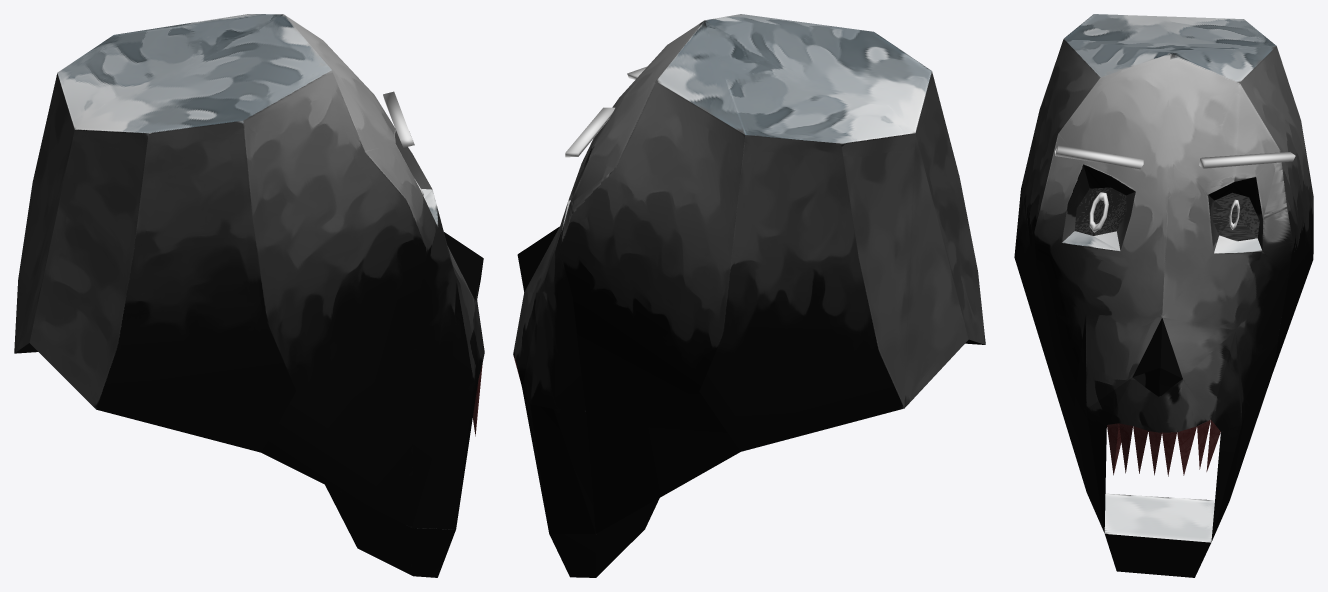
File: door_creature_round2.glb
3 renders of one model, left to right at view 1: azimuth 30°, elevation 25°; view 2: azimuth 150°, elevation 25°; view 3: azimuth 270°, elevation 25°, orthographic. The views are drawn at different scales.
Parts seen in each view (by area): view 1: Head, l. eyebrow; view 2: Head, r. eyebrow; view 3: Head, r. eyebrow, l. eyebrow, l. eye.
Part boxes in pixels (x1,y1,x2,y2): Head: (14,14,484,577); l. eyebrow: (383,91,414,147); Head: (513,14,985,577); r. eyebrow: (565,107,614,157); Head: (1014,14,1313,577); r. eyebrow: (1199,152,1295,168); l. eyebrow: (1055,145,1143,169); l. eye: (1089,192,1108,232).
Bounding box in the file's own units: 1.42 × 1.73 × 0.9876.
1 material, 1 textured.
